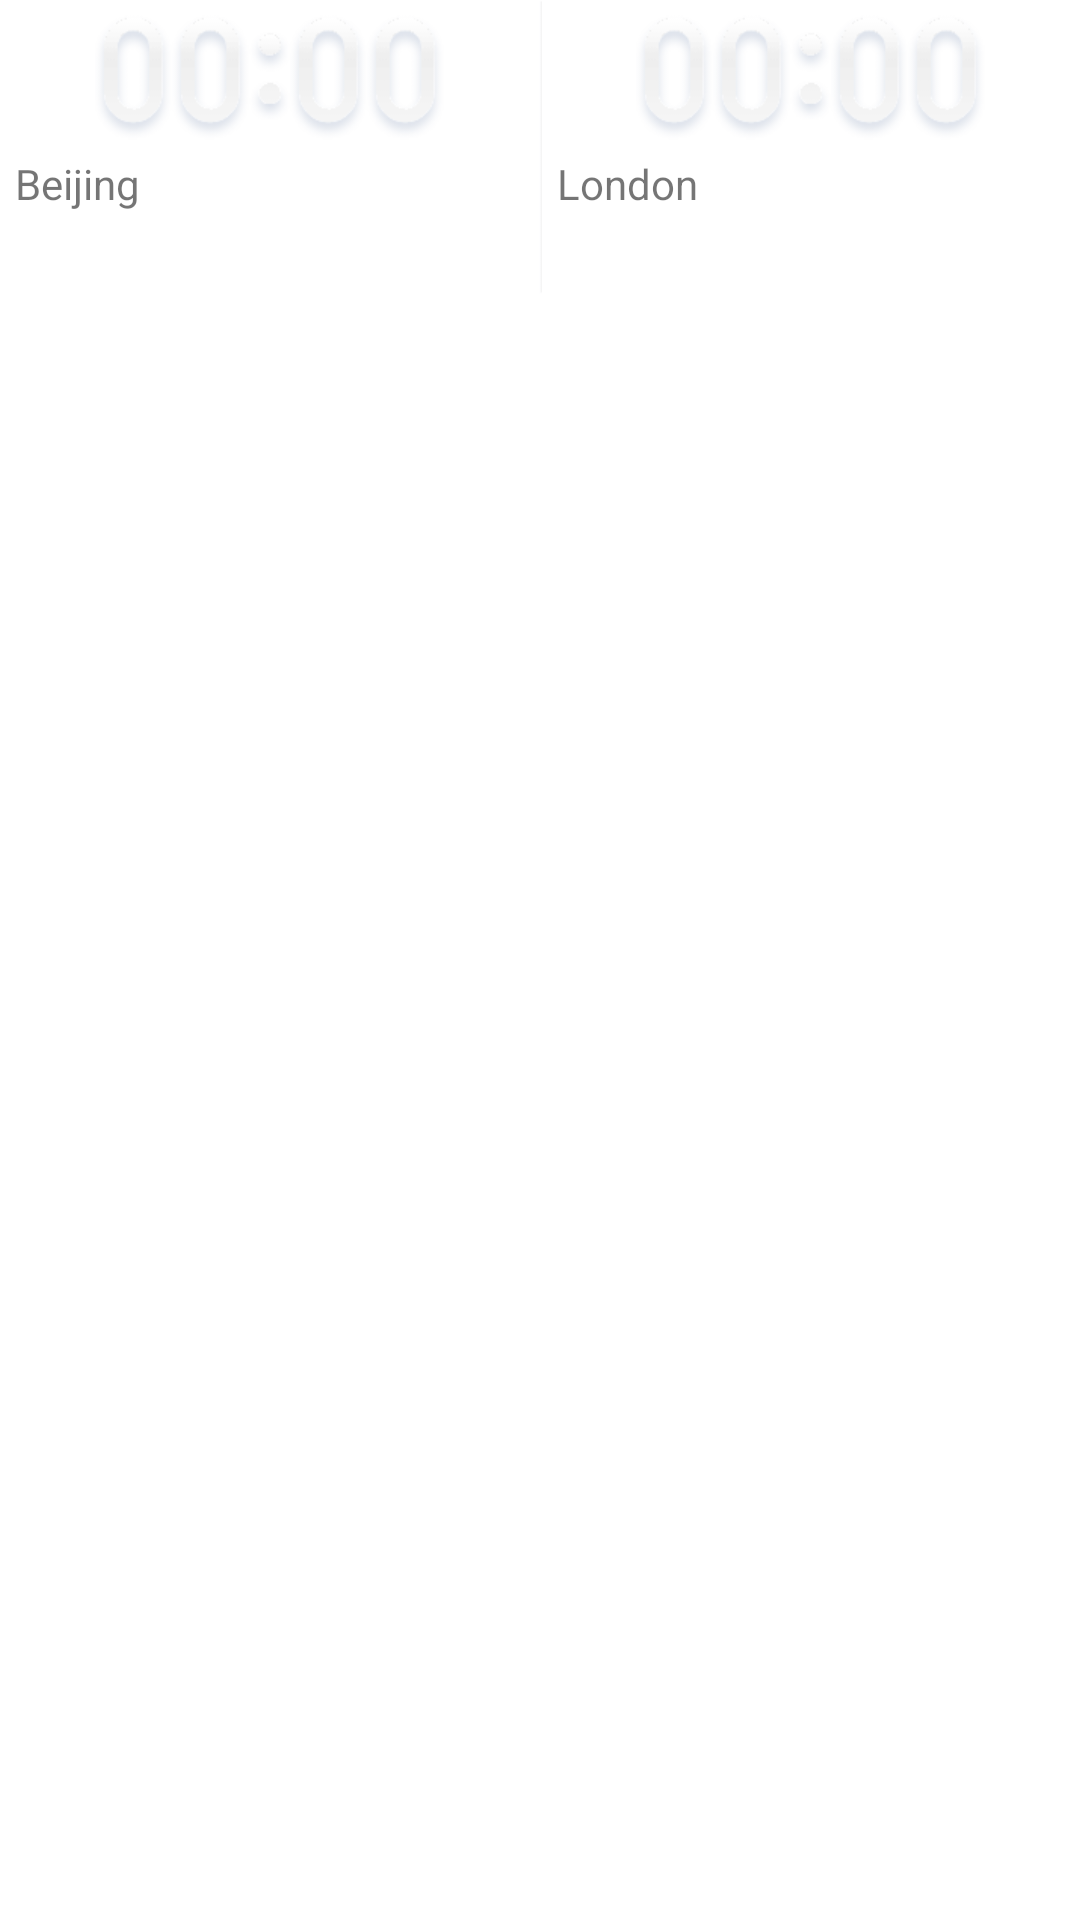

Point at icon controls on the screen. Image size 1080w x 1920h, points as (x=x, y=y).
time dot: (x=270, y=81), (x=811, y=81)
